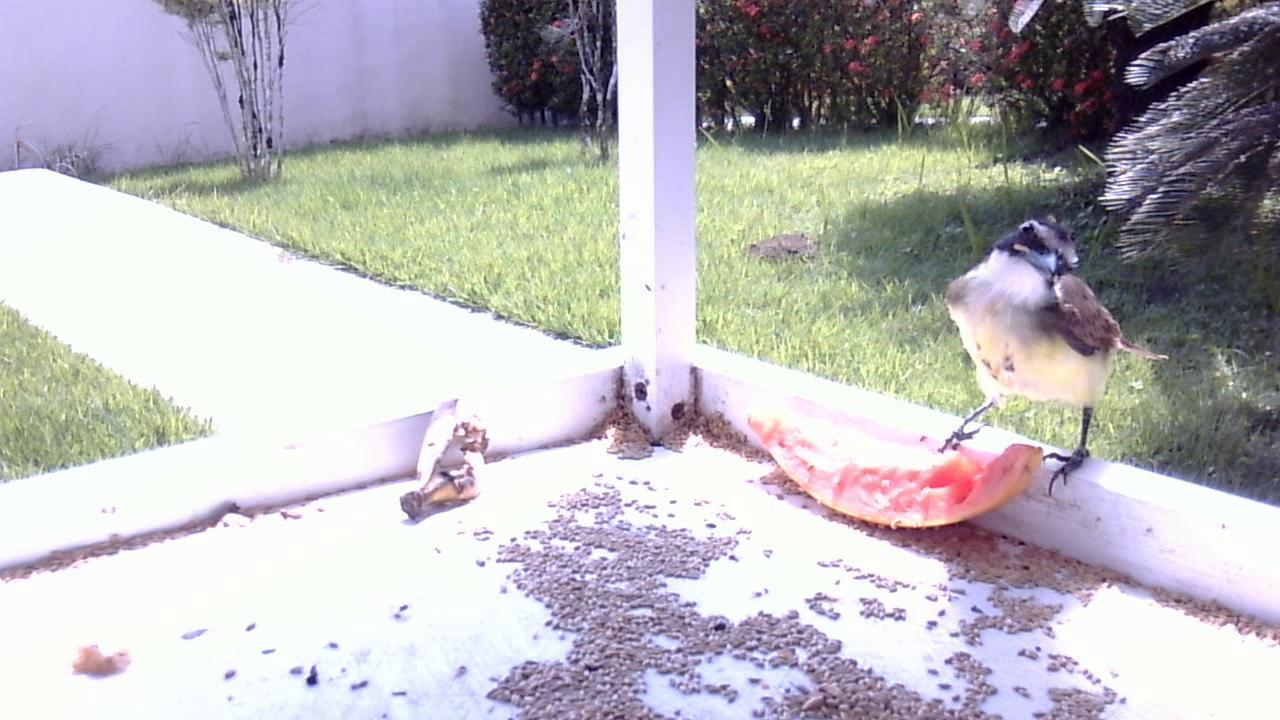bem_te_vi: (918, 211, 1177, 510)
